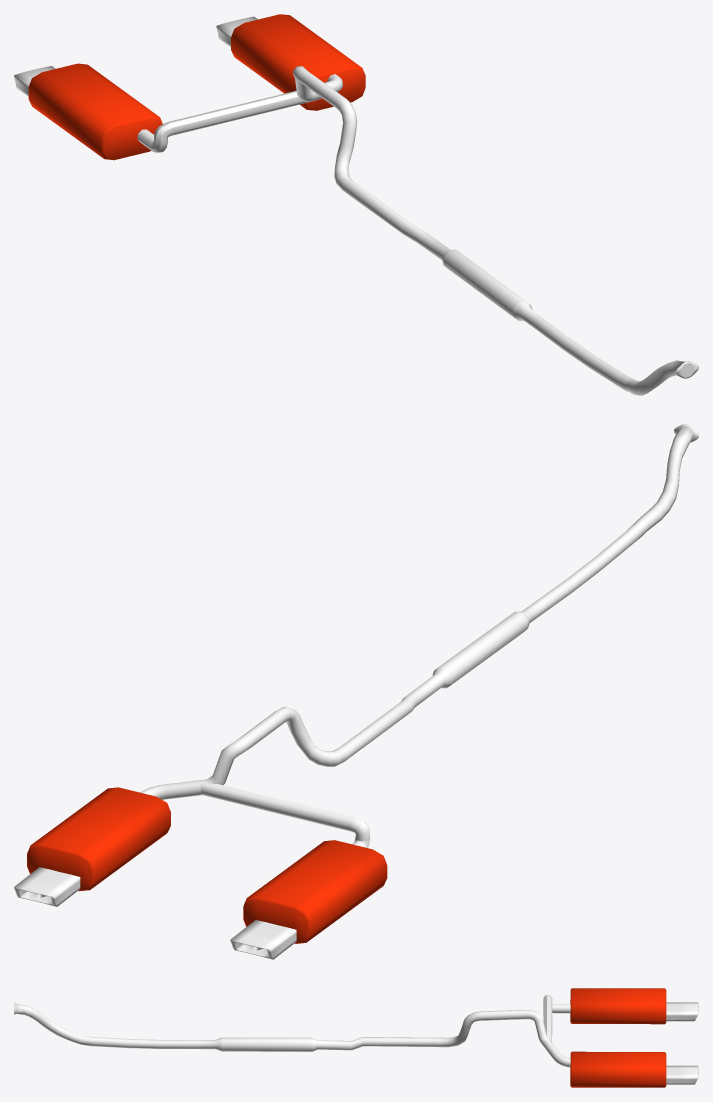
File: exhaust_1eo.dae
The picture shows the model from 3 angles, top to bottom: view 1: azimuth 30°, elevation 25°; view 2: azimuth 150°, elevation 25°; view 3: azimuth 270°, elevation 25°; orthographic projection. The views are drawn at different scales.
Visible parts, largest first — view 1: wendover_muffler_custom_1eo, wendover_exhaust_awd_1eo; view 2: wendover_muffler_custom_1eo, wendover_exhaust_awd_1eo; view 3: wendover_muffler_custom_1eo, wendover_exhaust_awd_1eo.
Part boxes in pixels (x1,y1,x2,y2): wendover_muffler_custom_1eo: [14, 14, 365, 160]; wendover_exhaust_awd_1eo: [137, 66, 698, 395]; wendover_muffler_custom_1eo: [14, 787, 387, 959]; wendover_exhaust_awd_1eo: [140, 424, 698, 847]; wendover_muffler_custom_1eo: [570, 988, 698, 1087]; wendover_exhaust_awd_1eo: [14, 995, 570, 1067].
Size of the model in its own units: 1.05 by 3.65 by 0.3086.
